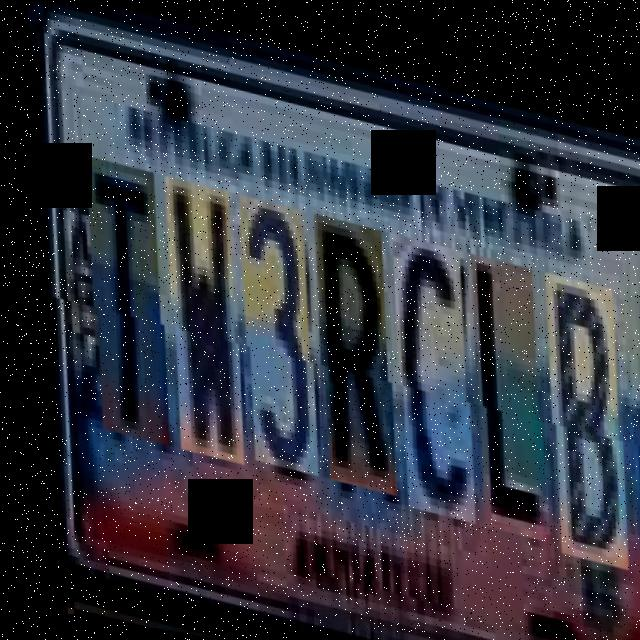3: (214, 186, 329, 468)
B: (518, 252, 639, 551)
C: (366, 219, 486, 509)
L: (444, 236, 561, 526)
R: (288, 203, 407, 484)
T: (62, 153, 181, 442)
W: (139, 170, 256, 459)
